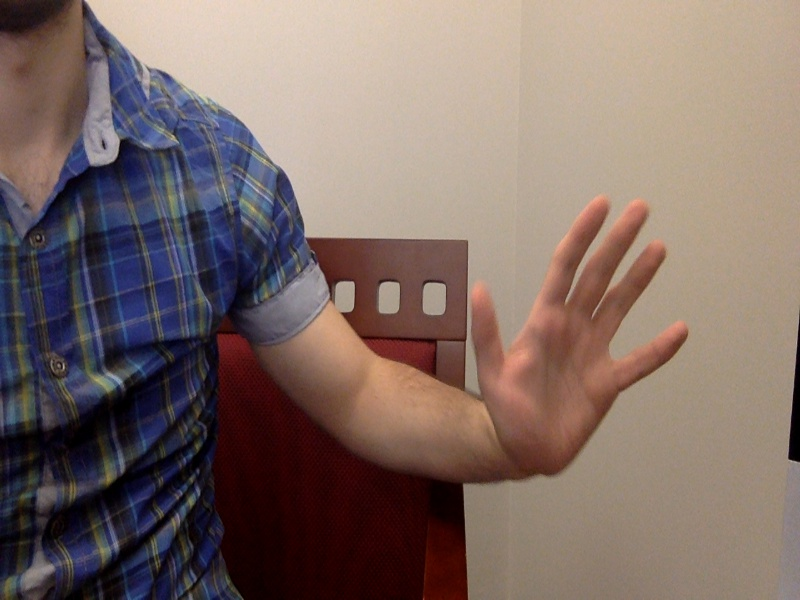5-hand: (467, 196, 695, 482)
